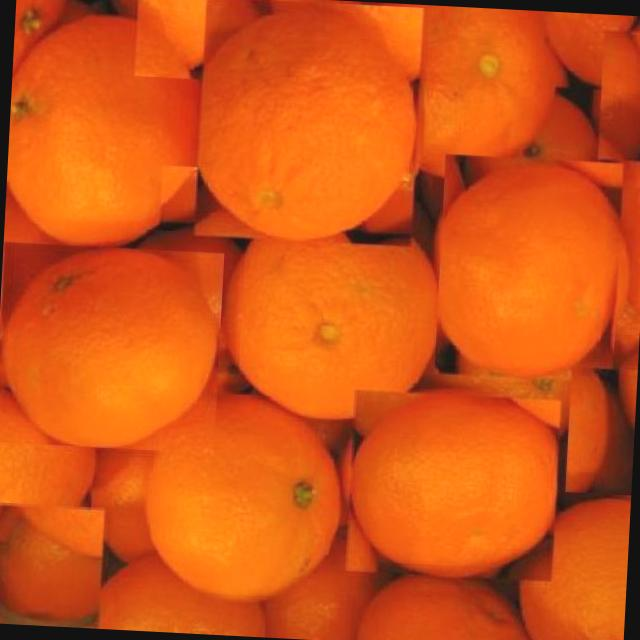Orange: (194, 0, 423, 247), (3, 4, 206, 253), (0, 242, 224, 454), (214, 230, 445, 425), (143, 388, 343, 605), (434, 154, 624, 382), (346, 389, 562, 582), (366, 2, 543, 180), (508, 492, 630, 640), (82, 548, 254, 637), (0, 504, 104, 629), (356, 584, 518, 640)
